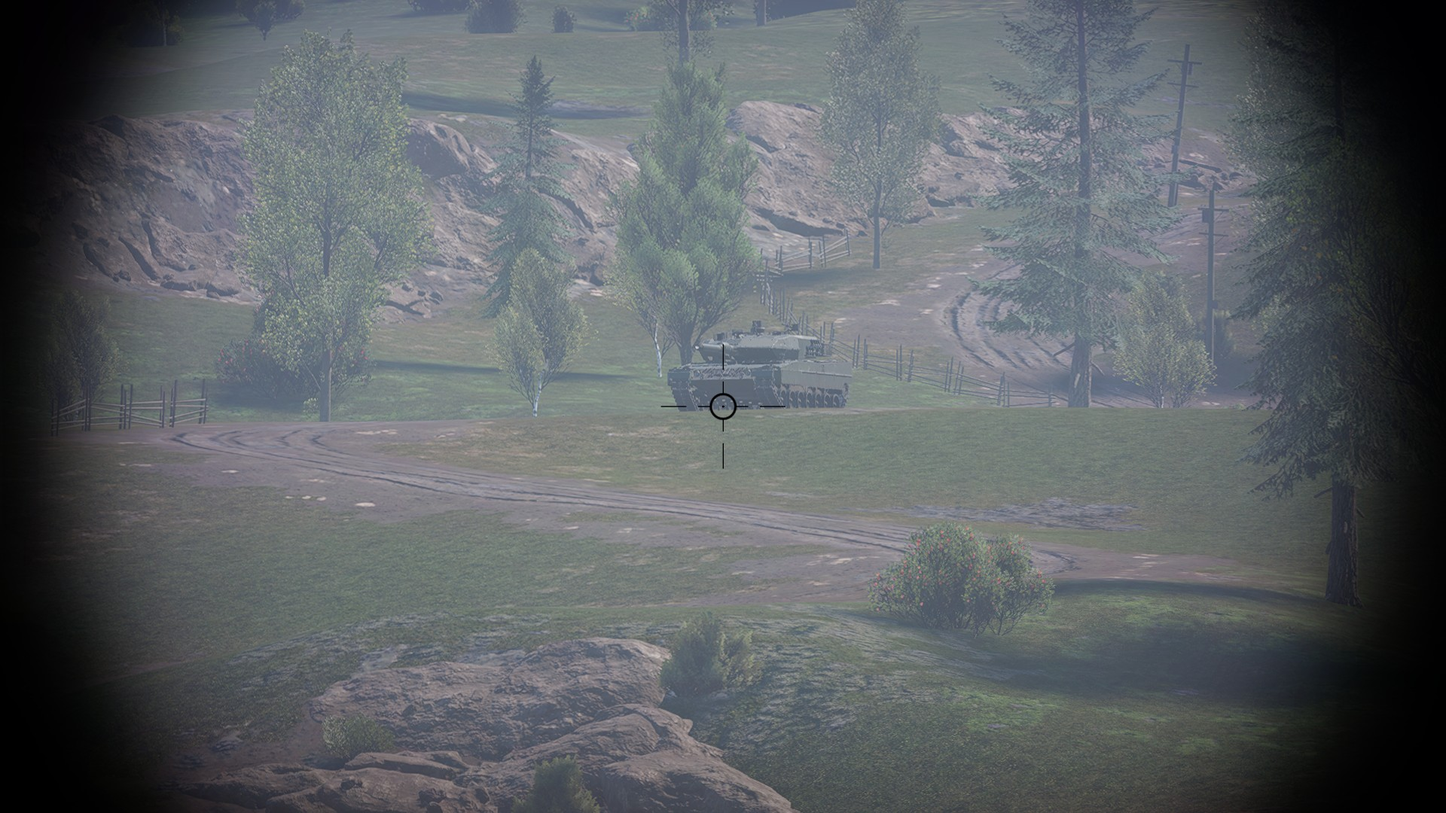leopard2: (667, 321, 853, 411)
